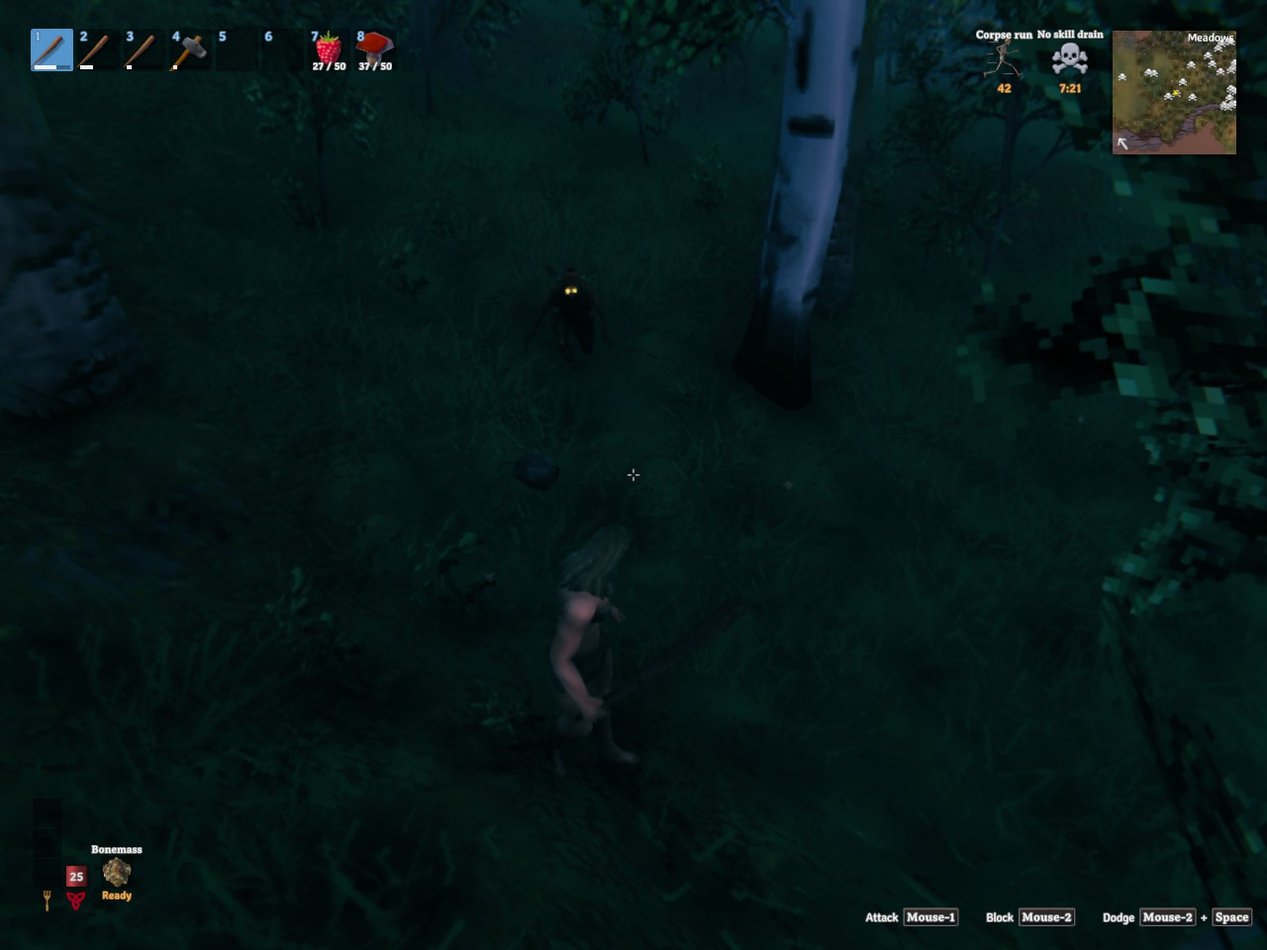Greyling: (526, 267, 609, 365)
